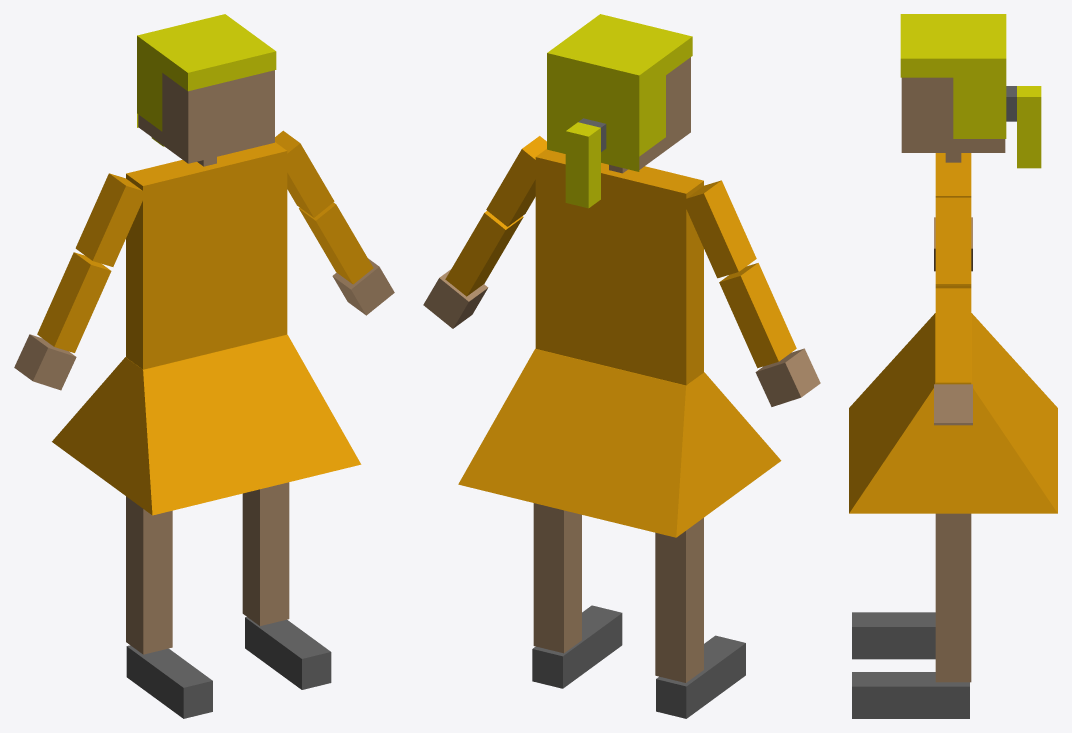
File: Customer_1.fbx
3 renders of one model, left to right at view 1: azimuth 30°, elevation 25°; view 2: azimuth 150°, elevation 25°; view 3: azimuth 270°, elevation 25°, orthographic. The views are drawn at different scales.
Visible parts, largest first — view 1: customer_1; view 2: customer_1; view 3: customer_1.
Part boxes in pixels (left/top/right/bottom): customer_1: left=14, top=14, right=394, bottom=718; customer_1: left=423, top=14, right=820, bottom=718; customer_1: left=849, top=14, right=1057, bottom=718.
Size of the model in its own units: 4.18 by 6.87 by 2.02.
